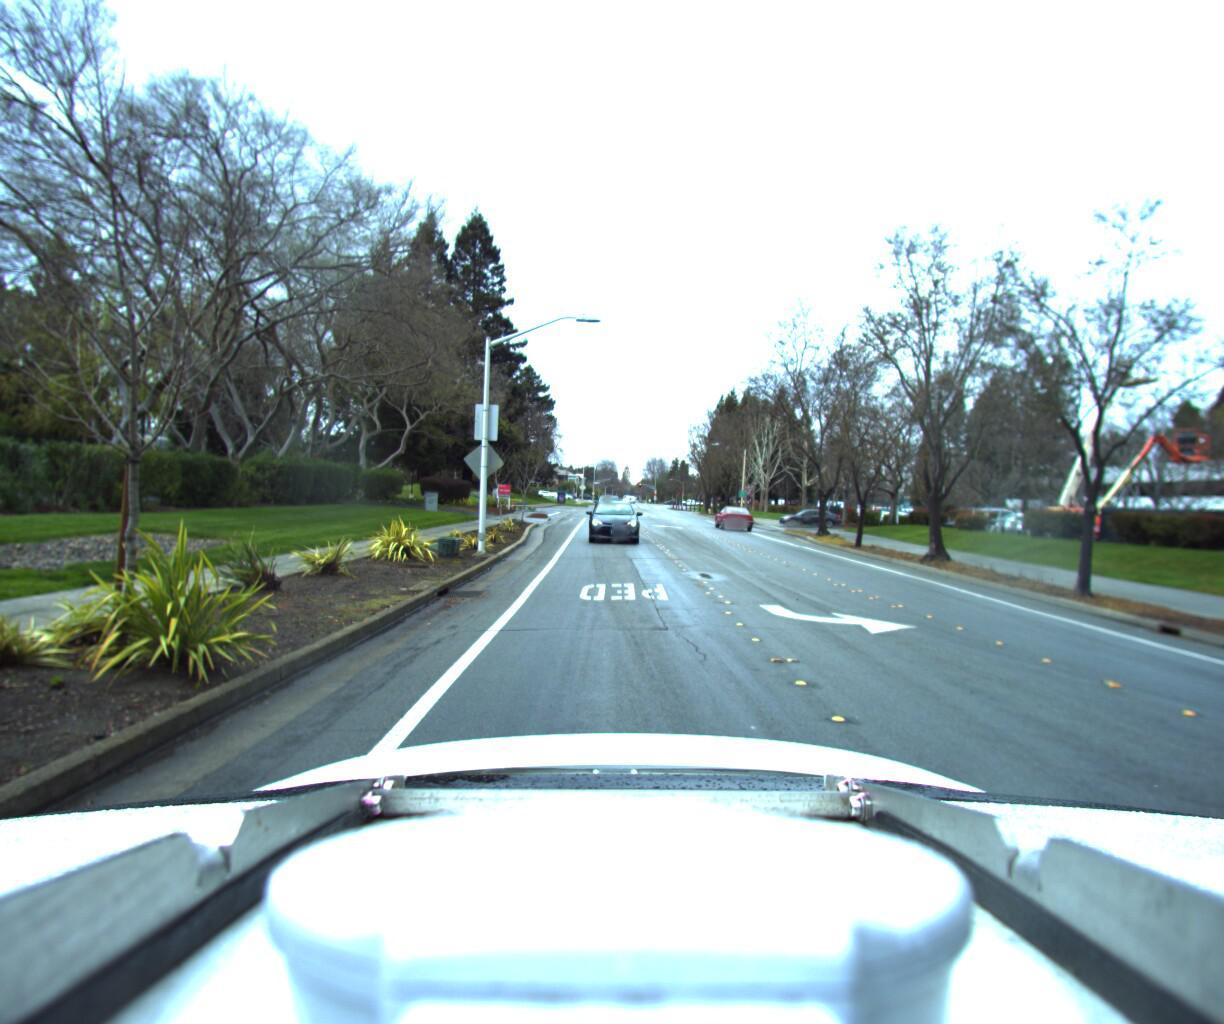car: (584, 493, 642, 543), (776, 500, 841, 523), (709, 498, 752, 526)
